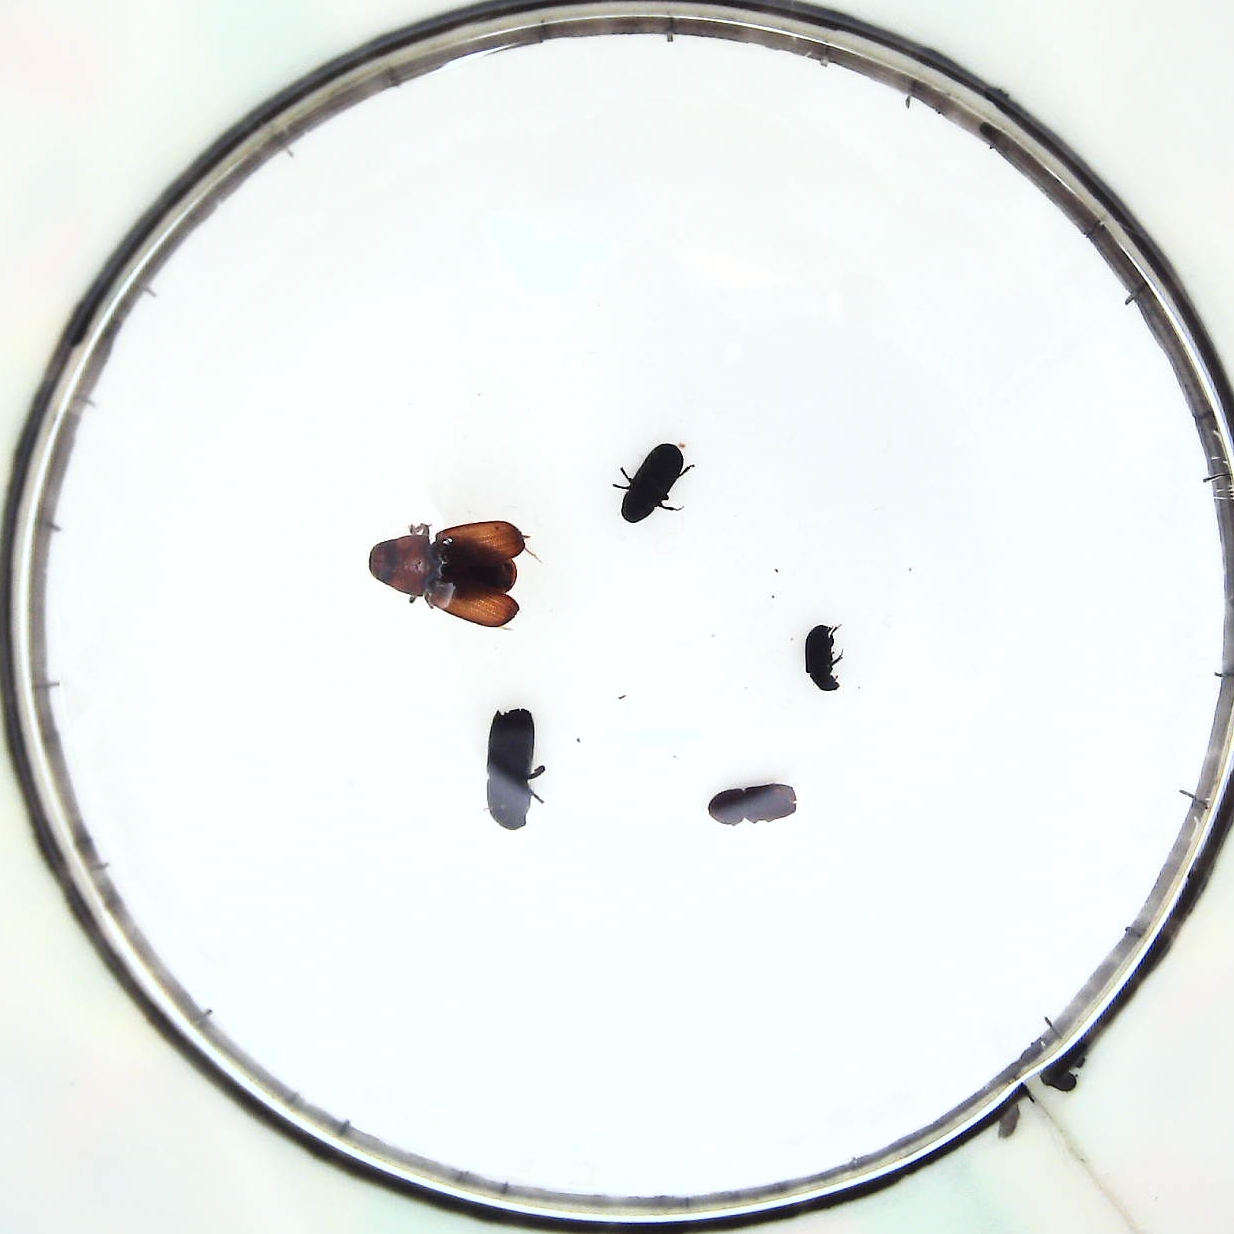Boerner: (487, 704, 538, 826)
Leconte: (365, 512, 525, 629)
Linnaeus: (713, 785, 787, 824)
armandi: (612, 444, 687, 522)
coleoptera: (796, 626, 853, 695)
